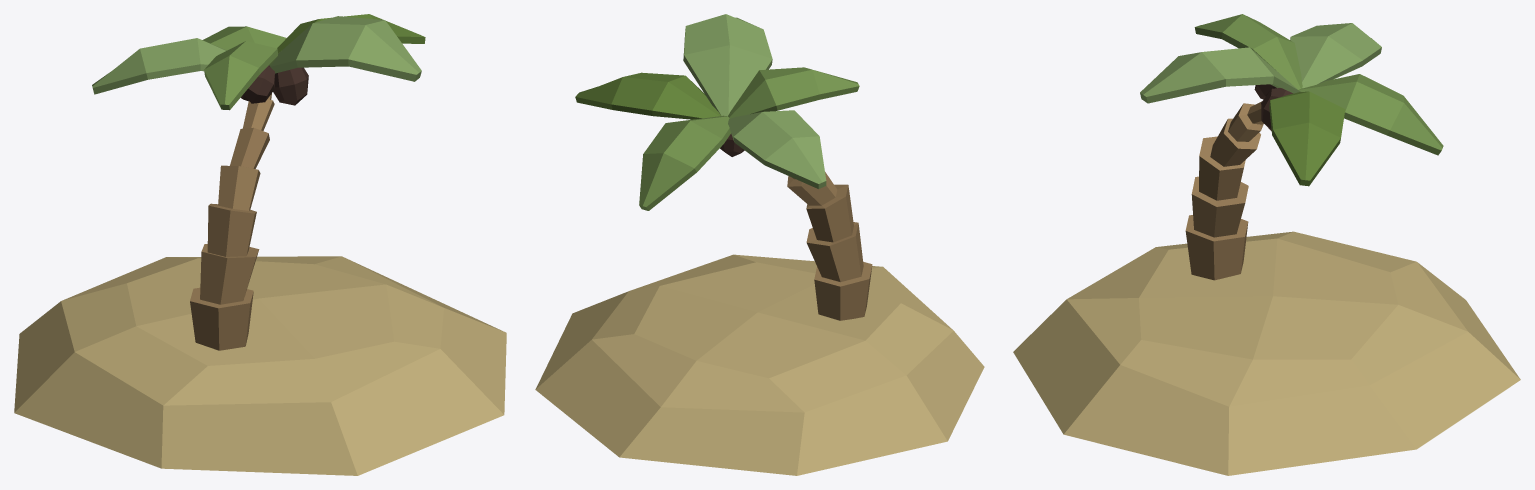
Rendered from Island_small.fbx.
3 views of the same model, side by side, from view 1: azimuth 30°, elevation 25°; view 2: azimuth 150°, elevation 25°; view 3: azimuth 270°, elevation 25° (orthographic). The views are drawn at different scales.
Visible parts, largest first — view 1: Insel_klein; view 2: Insel_klein; view 3: Insel_klein.
Boxes of the visible parts, <box> form: Insel_klein: <box>14,14,506,475</box>; Insel_klein: <box>535,14,984,475</box>; Insel_klein: <box>1013,14,1520,475</box>.
Bounding box in the file's own units: 920 × 692 × 910.
